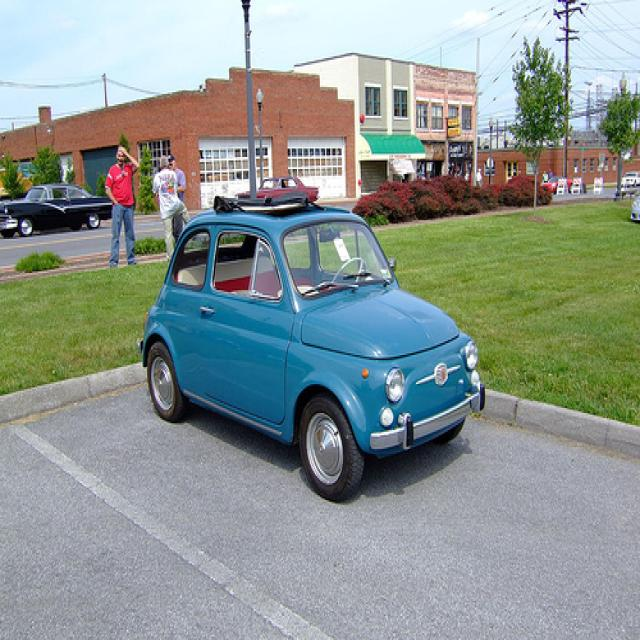light_vehicle: (138, 191, 485, 504), (0, 185, 109, 238), (238, 176, 321, 201)
